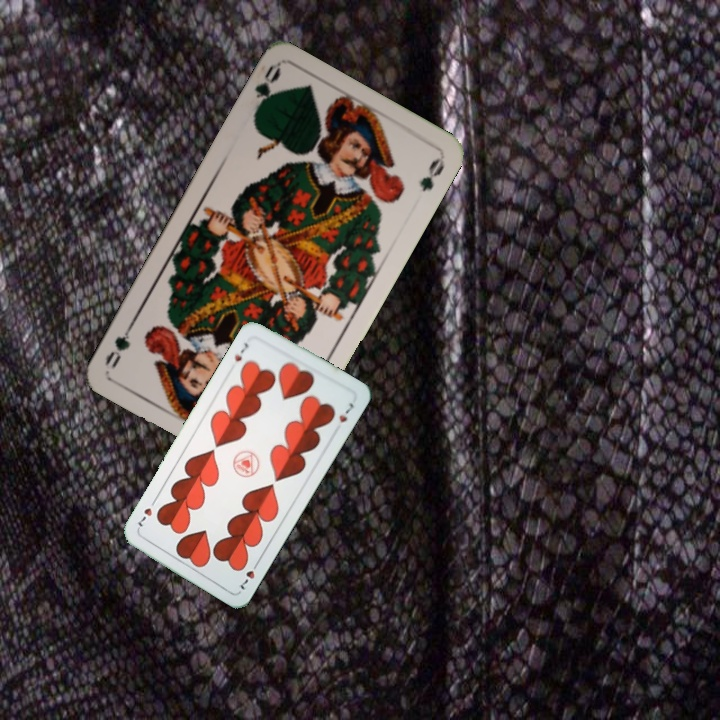GO: (249, 61, 283, 119)
H7: (236, 557, 262, 593), (230, 339, 252, 364)
